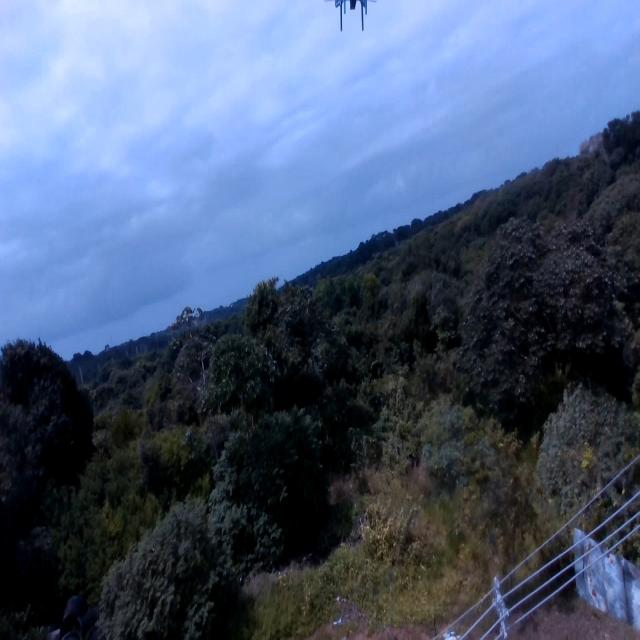-uav-: (327, 0, 381, 39)
